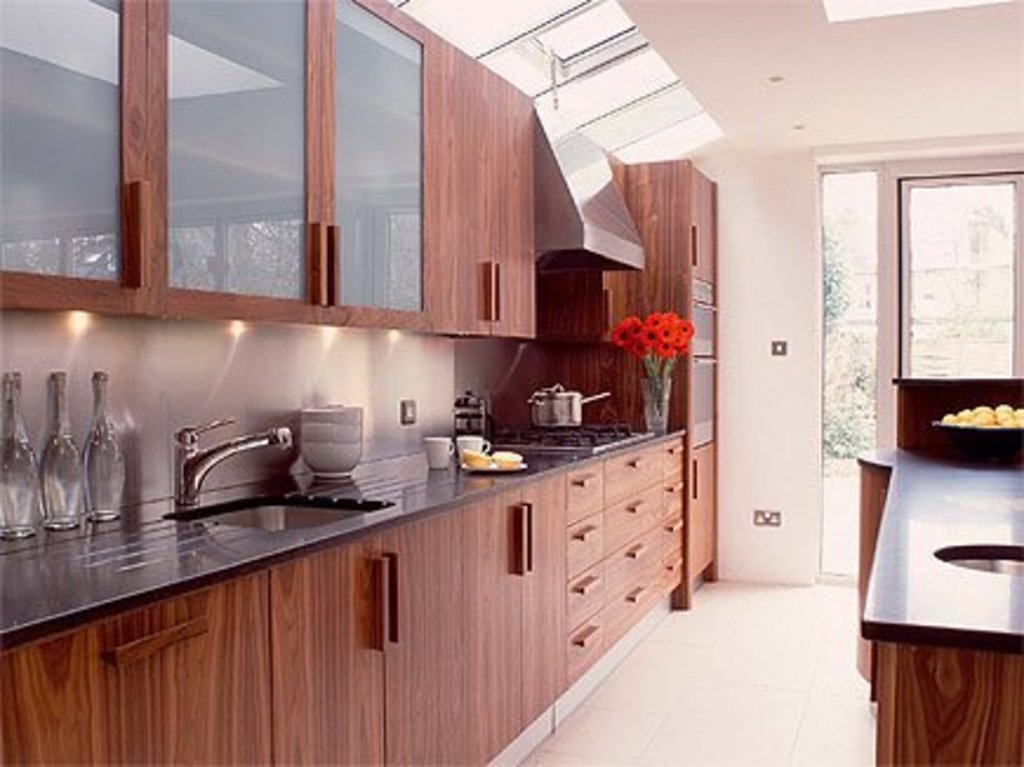cabinet door: (148, 3, 326, 317), (10, 11, 147, 303), (12, 621, 265, 767), (332, 3, 436, 323), (274, 553, 382, 767), (385, 524, 475, 767), (434, 59, 486, 328), (486, 89, 539, 330), (518, 479, 567, 706), (478, 506, 519, 757), (690, 173, 721, 274), (692, 450, 715, 567), (566, 567, 606, 613), (566, 507, 603, 556), (567, 620, 605, 666), (610, 538, 648, 580), (609, 578, 651, 609), (557, 476, 605, 503), (648, 520, 684, 555), (651, 553, 690, 585), (614, 492, 648, 527), (655, 438, 686, 476), (651, 478, 686, 508), (614, 456, 638, 488)
handle: (100, 611, 207, 671), (123, 173, 154, 297), (370, 550, 390, 663), (386, 543, 403, 652), (306, 221, 327, 309), (329, 224, 346, 304), (493, 250, 509, 325), (513, 499, 526, 583), (522, 494, 535, 576), (684, 221, 705, 271), (481, 254, 494, 323), (566, 470, 599, 493), (567, 625, 598, 649), (690, 456, 703, 506), (663, 513, 684, 542), (574, 572, 603, 593), (570, 519, 595, 542), (665, 558, 686, 581), (626, 543, 650, 561), (623, 584, 643, 605), (627, 500, 646, 520), (664, 443, 683, 462), (668, 478, 685, 497), (625, 457, 641, 471)
